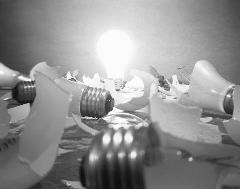lightbulb: (0, 62, 114, 189), (96, 29, 134, 89)
